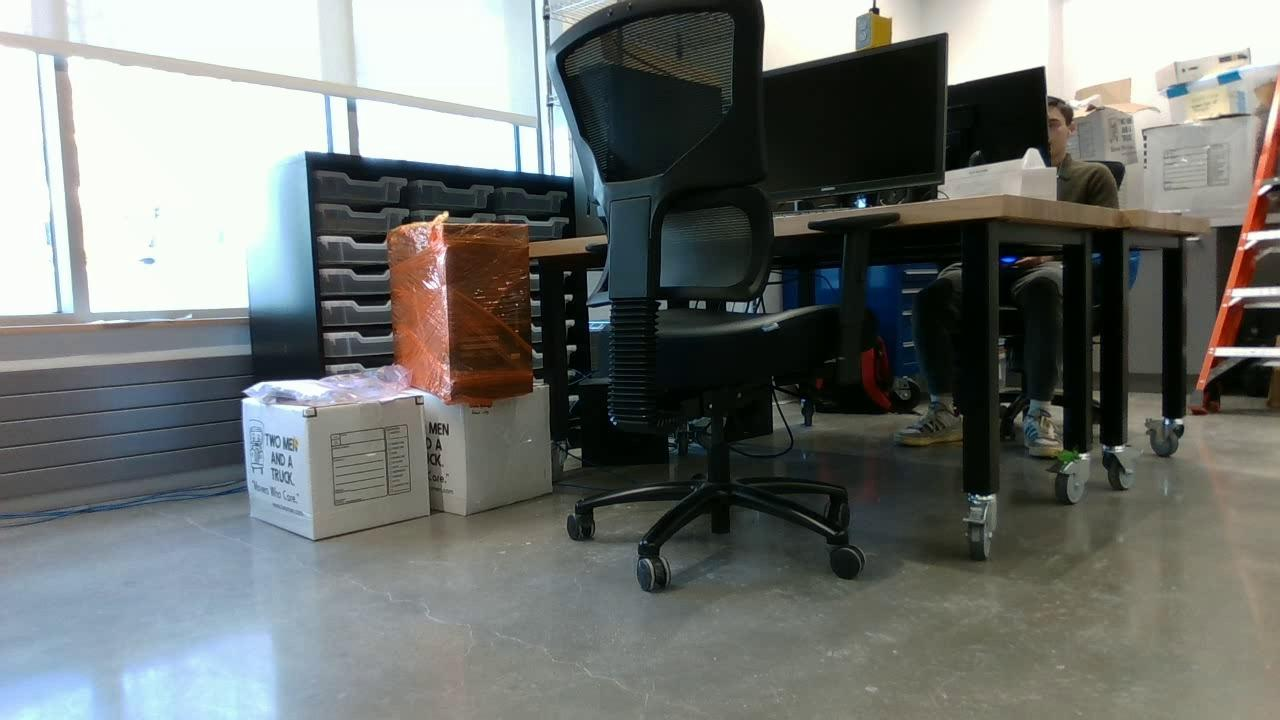grasshopper: (1049, 448, 1076, 469)
